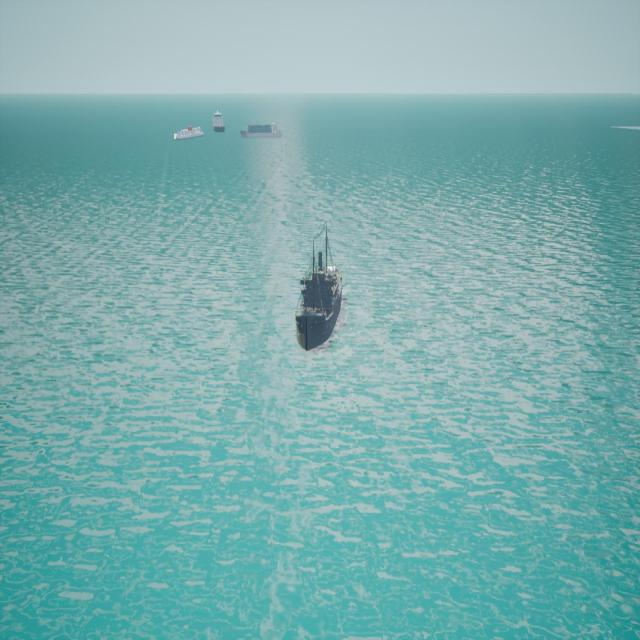fishing ship: (297, 226, 344, 353), (241, 122, 283, 140), (175, 127, 208, 143), (215, 112, 227, 134)
